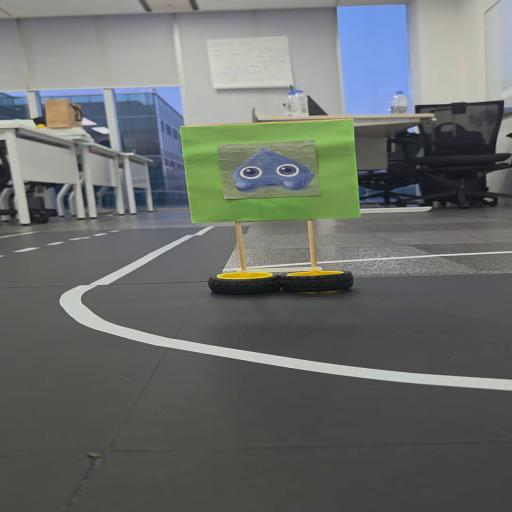Sign_B: (169, 122, 369, 301)
